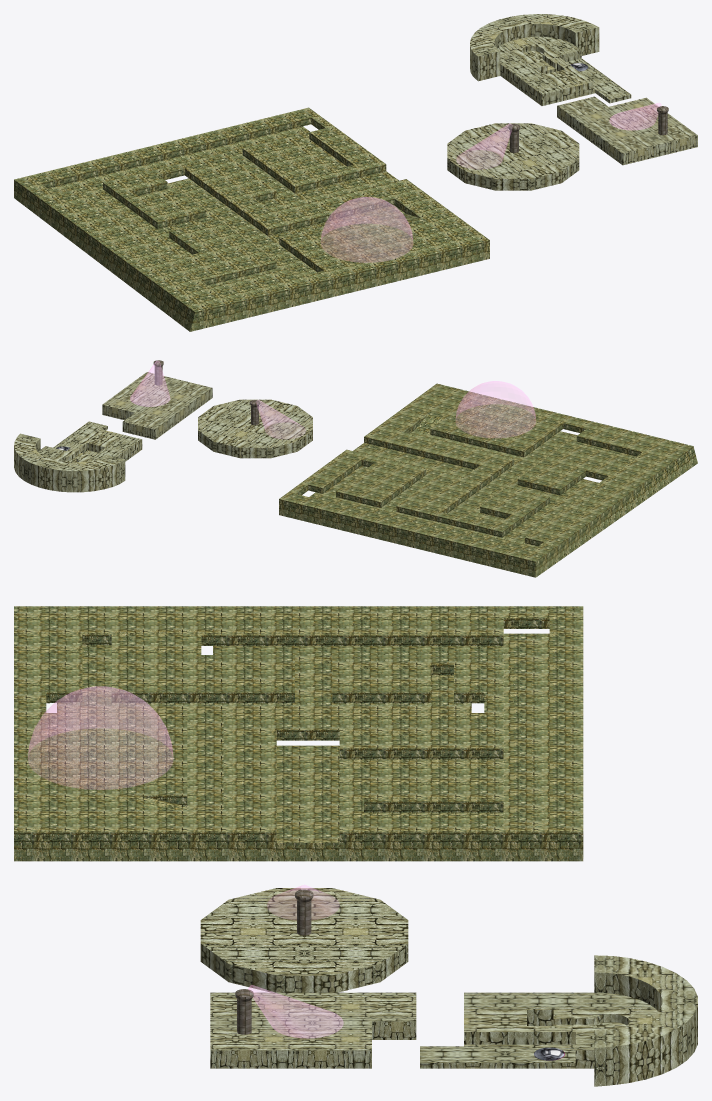
File: trapped.gltf
3 renders of one model, top to bottom at view 1: azimuth 30°, elevation 25°; view 2: azimuth 150°, elevation 25°; view 3: azimuth 270°, elevation 25°, orthographic. The views are drawn at different scales.
Parts seen in each view (by area): view 1: Plane.001-col, Circle-col, Plane-col-col, Cube-col, Sphere, Cube.001-col, light, light.001; view 2: Plane.001-col, Circle-col, Plane-col-col, Cube.001-col, Sphere, Cube-col, light.001, light; view 3: Plane.001-col, Circle-col, Plane-col-col, Cube-col, Sphere, Cube.001-col, light.001, light.
Boxes of the visible parts, <box> form: Plane.001-col: <box>14,107,489,331</box>; Circle-col: <box>447,123,579,190</box>; Plane-col-col: <box>557,96,697,165</box>; Cube-col: <box>497,36,631,105</box>; Sphere: <box>321,197,412,262</box>; Cube.001-col: <box>470,14,599,81</box>; light: <box>456,123,512,169</box>; light.001: <box>609,103,661,130</box>; Plane.001-col: <box>279,383,697,577</box>; Circle-col: <box>198,399,312,458</box>; Plane-col-col: <box>102,372,212,439</box>; Cube.001-col: <box>14,433,125,492</box>; Sphere: <box>456,381,535,437</box>; Cube-col: <box>38,421,142,462</box>; light.001: <box>130,361,169,406</box>; light: <box>256,400,305,438</box>; Plane.001-col: <box>14,606,583,861</box>; Circle-col: <box>200,888,408,992</box>; Plane-col-col: <box>210,992,416,1068</box>; Cube-col: <box>420,992,657,1068</box>; Sphere: <box>28,686,173,789</box>; Cube.001-col: <box>594,955,697,1086</box>; light.001: <box>248,985,343,1038</box>; light: <box>267,885,339,919</box>.
Size of the model in its own units: 29.52 by 2.88 by 18.74.
5 materials, 4 textured.
